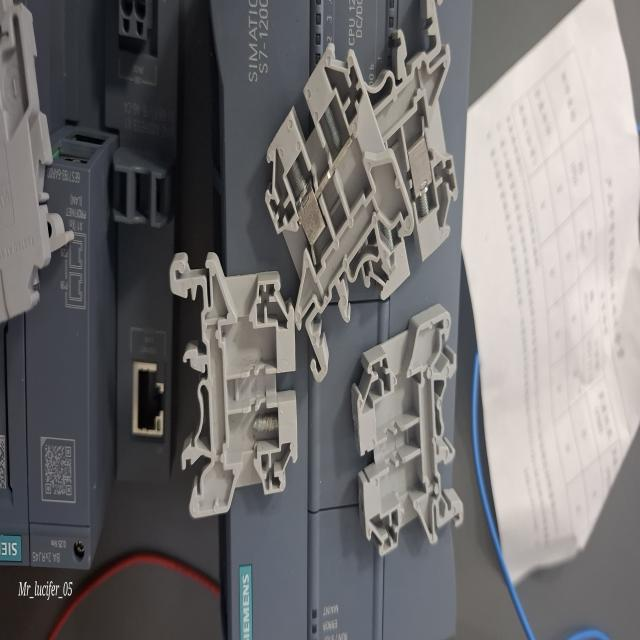Reject: (268, 40, 414, 365), (168, 252, 300, 519), (352, 304, 467, 550)
